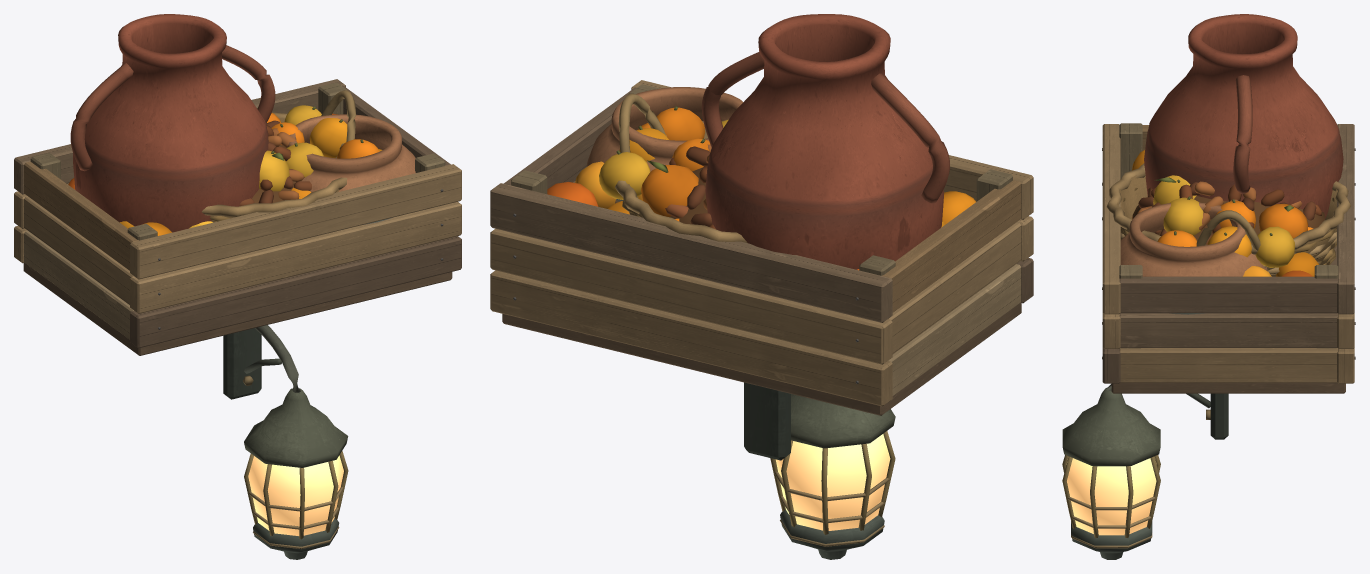
File: market-props.glb
3 views of the same model, side by side, from view 1: azimuth 30°, elevation 25°; view 2: azimuth 150°, elevation 25°; view 3: azimuth 270°, elevation 25° (orthographic). The views are drawn at different scales.
Visible parts, largest first — view 1: ProduceCrate, TerracottaPair, ShopLantern, DateBasket; view 2: ProduceCrate, TerracottaPair, ShopLantern, DateBasket; view 3: ProduceCrate, TerracottaPair, ShopLantern, DateBasket.
Boxes of the visible parts, box(x1,y1,x2,y2) form: ProduceCrate: box(14, 79, 461, 355); TerracottaPair: box(70, 14, 415, 232); ShopLantern: box(223, 325, 348, 559); DateBasket: box(202, 90, 355, 222); ProduceCrate: box(490, 80, 1033, 415); TerracottaPair: box(586, 14, 949, 269); ShopLantern: box(744, 382, 895, 559); DateBasket: box(615, 93, 747, 243); ProduceCrate: box(1102, 123, 1355, 393); TerracottaPair: box(1120, 14, 1343, 314); ShopLantern: box(1062, 384, 1228, 559); DateBasket: box(1106, 163, 1350, 276).
Size of the model in its own units: 0.662 by 0.949 by 0.5133.
Materials: 9 (5 with a texture image).
